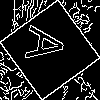A: (25, 25, 75, 66)
